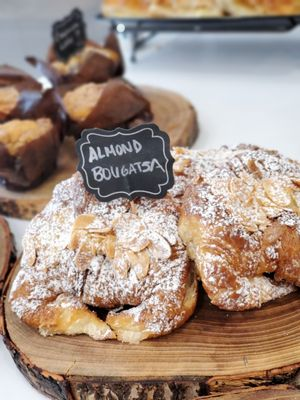salad: (18, 188, 200, 344), (170, 144, 300, 312), (0, 63, 68, 193), (59, 79, 152, 135), (0, 116, 63, 191)
